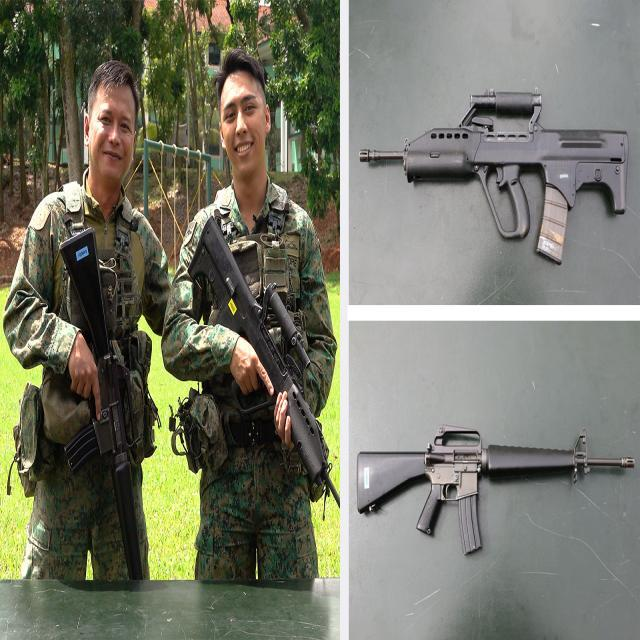m16: (350, 375, 636, 608)
